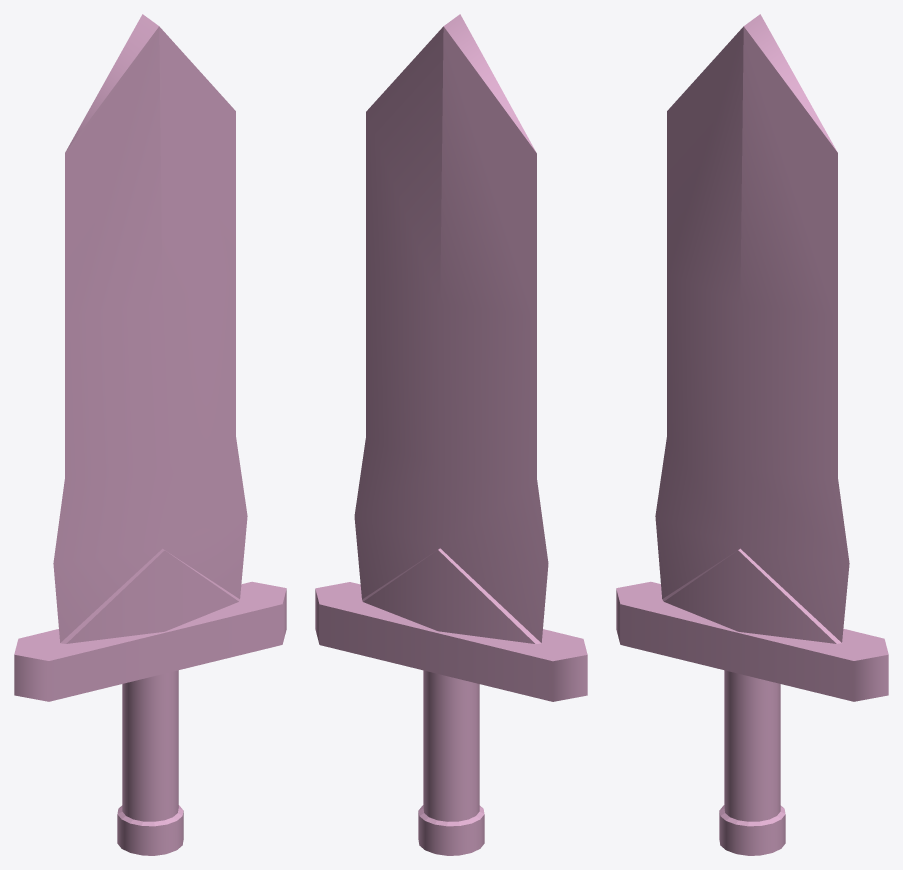
File: swordblaaah.fbx
3 renders of one model, left to right at view 1: azimuth 30°, elevation 25°; view 2: azimuth 150°, elevation 25°; view 3: azimuth 330°, elevation 25°, orthographic.
Visible parts, largest first — view 1: polySurface1; view 2: polySurface1; view 3: polySurface1.
Part boxes in pixels (x1=…): polySurface1: x1=14, y1=14, x2=286, y2=855; polySurface1: x1=315, y1=14, x2=587, y2=855; polySurface1: x1=616, y1=14, x2=888, y2=855.
Bounding box in the file's own units: 35 × 101 × 7.41.
